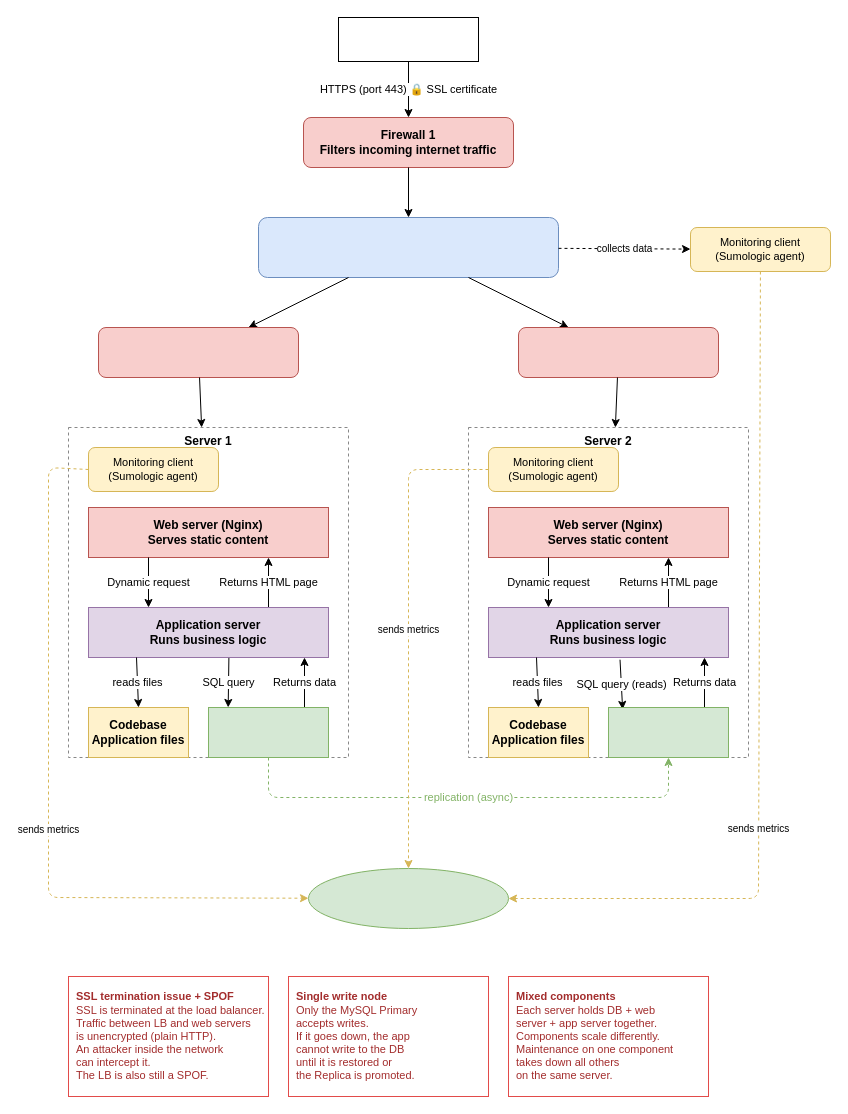
Image size: 848x1114. Some labels were removed from this diagram. The shapes that lost their labels are listed below. From the top down, each one's centre as x and y in pixels, then its label:
the point at 408,39: User browser
the point at 408,247: Load Balancer — HAProxy Round Robin — Active-Active SSL termination here
the point at 198,352: Firewall 2 Protects Server 1
the point at 618,352: Firewall 3 Protects Server 2
the point at 268,732: MySQL PRIMARY Reads + Writes
the point at 668,732: MySQL REPLICA Reads only
the point at 408,898: Sumologic Monitoring service (cloud)
